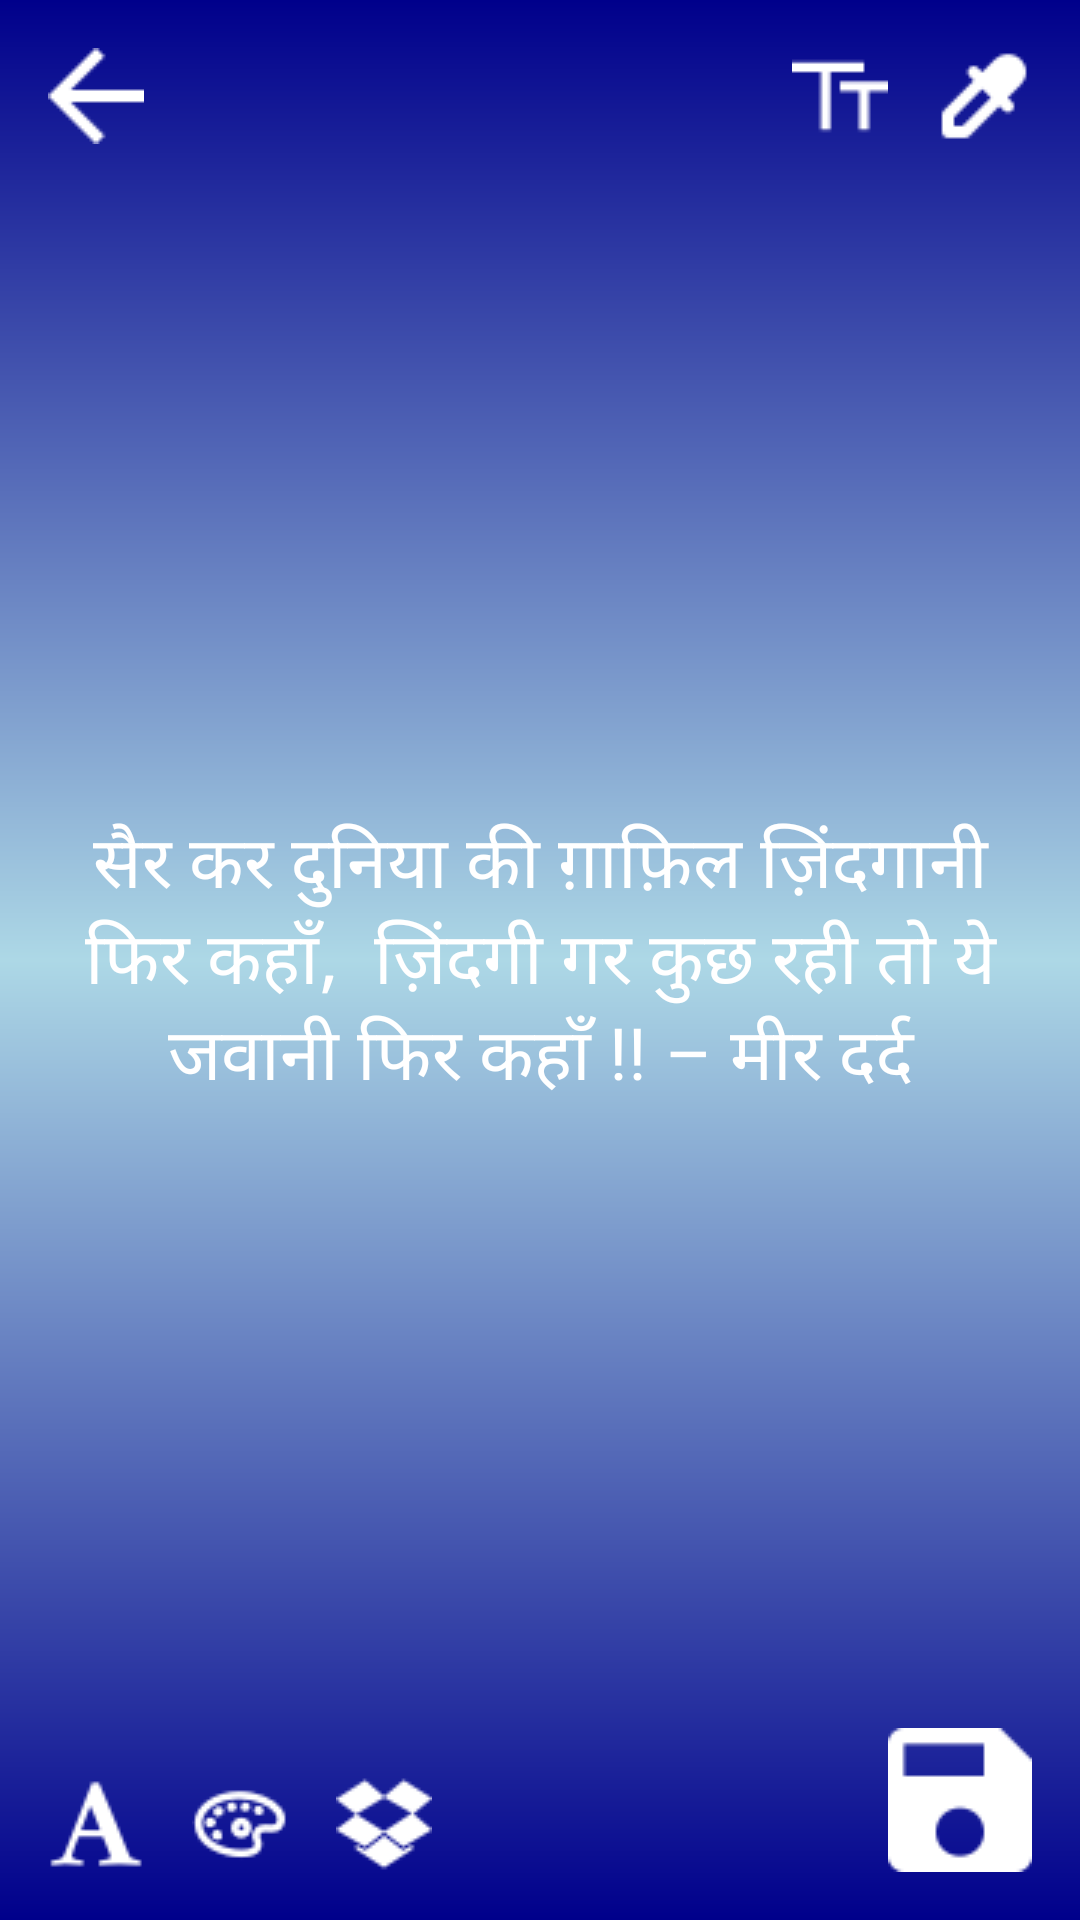

Where icons sit on this 1080×1920 app screen, as [x1, y1, x2, y2]:
back: [48, 48, 144, 144]
colorpicker: [941, 53, 1027, 139]
font: [48, 1776, 144, 1867]
save: [888, 1728, 1032, 1872]
textsize: [792, 59, 888, 144]
